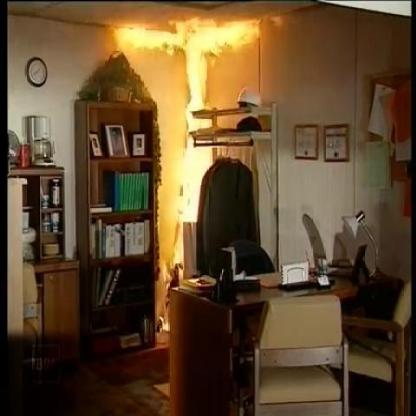Fire: (99, 5, 267, 86), (174, 136, 206, 222)
